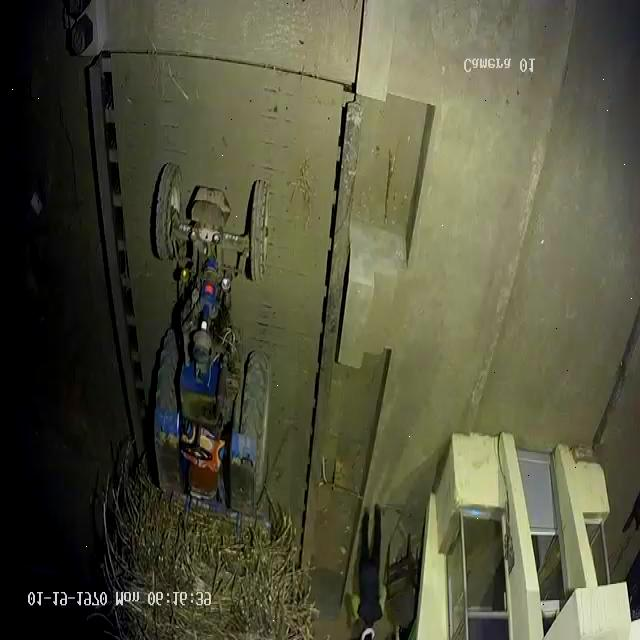Tratores - v5 YOLO V8L 2024-11-13: (144, 173, 277, 510)
